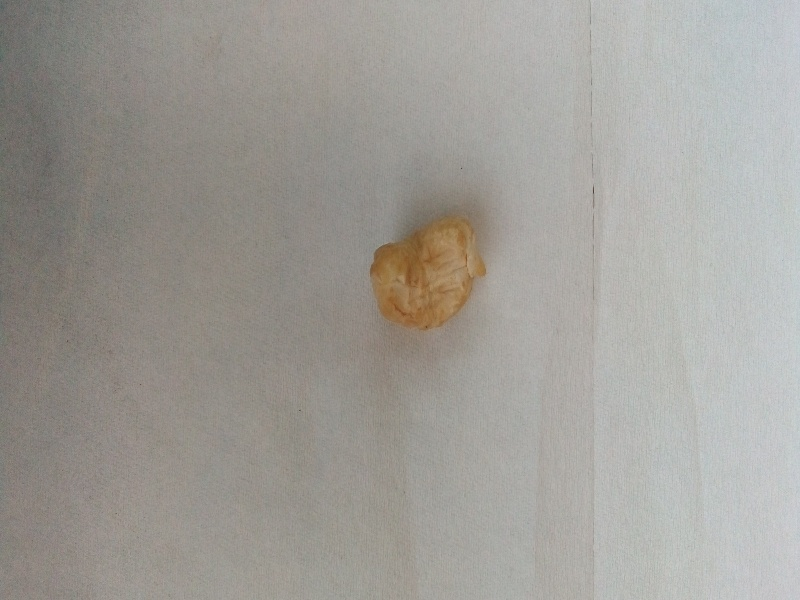cashew: (350, 205, 508, 339)
